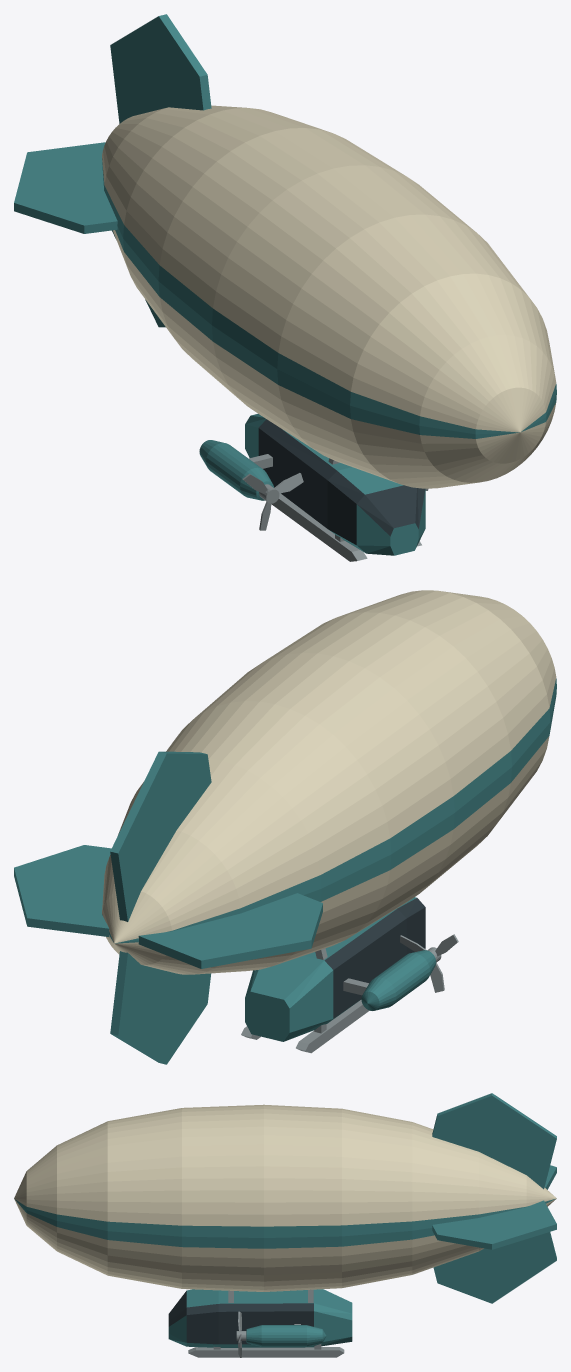
3 renders of one model, top to bottom at view 1: azimuth 30°, elevation 25°; view 2: azimuth 150°, elevation 25°; view 3: azimuth 270°, elevation 25°, orthographic. The views are drawn at different scales.
Visible parts, largest first — view 1: WholeLongTaperedEnvelope, WholeUnderslungOpaqueWindowGondola, TopWholeFixedTailPlane, LeftWholeFixedTailPlane, LeftWholeEngineNacelle, LeftWholeLandingSkid; view 2: WholeLongTaperedEnvelope, WholeUnderslungOpaqueWindowGondola, TopWholeFixedTailPlane, LeftWholeFixedTailPlane, BottomWholeFixedTailPlane, RightWholeFixedTailPlane, LeftWholeEngineNacelle, LeftWholeLandingSkid; view 3: WholeLongTaperedEnvelope, WholeUnderslungOpaqueWindowGondola, TopWholeFixedTailPlane, BottomWholeFixedTailPlane, RightWholeFixedTailPlane, RightWholeEngineNacelle, RightWholeLandingSkid.
Boxes of the visible parts, x1=… form: WholeLongTaperedEnvelope: x1=102, y1=105, x2=556, y2=488; WholeUnderslungOpaqueWindowGondola: x1=245, y1=414, x2=425, y2=555; TopWholeFixedTailPlane: x1=110, y1=14, x2=211, y2=123; LeftWholeFixedTailPlane: x1=14, y1=142, x2=117, y2=233; LeftWholeEngineNacelle: x1=199, y1=440, x2=274, y2=500; LeftWholeLandingSkid: x1=271, y1=493, x2=367, y2=561; WholeLongTaperedEnvelope: x1=102, y1=590, x2=556, y2=974; WholeUnderslungOpaqueWindowGondola: x1=245, y1=897, x2=425, y2=1041; TopWholeFixedTailPlane: x1=110, y1=751, x2=211, y2=921; LeftWholeFixedTailPlane: x1=138, y1=893, x2=322, y2=968; BottomWholeFixedTailPlane: x1=110, y1=951, x2=211, y2=1064; RightWholeFixedTailPlane: x1=14, y1=845, x2=111, y2=936; LeftWholeEngineNacelle: x1=361, y1=950, x2=436, y2=1010; LeftWholeLandingSkid: x1=296, y1=1000, x2=369, y2=1053; WholeLongTaperedEnvelope: x1=14, y1=1104, x2=556, y2=1291; WholeUnderslungOpaqueWindowGondola: x1=168, y1=1289, x2=352, y2=1347; TopWholeFixedTailPlane: x1=432, y1=1093, x2=556, y2=1189; BottomWholeFixedTailPlane: x1=433, y1=1232, x2=556, y2=1303; RightWholeFixedTailPlane: x1=432, y1=1200, x2=556, y2=1249; RightWholeEngineNacelle: x1=246, y1=1325, x2=326, y2=1346; RightWholeLandingSkid: x1=188, y1=1347, x2=344, y2=1357.
Size of the model in its own units: 2.94 by 3.57 by 6.95.
